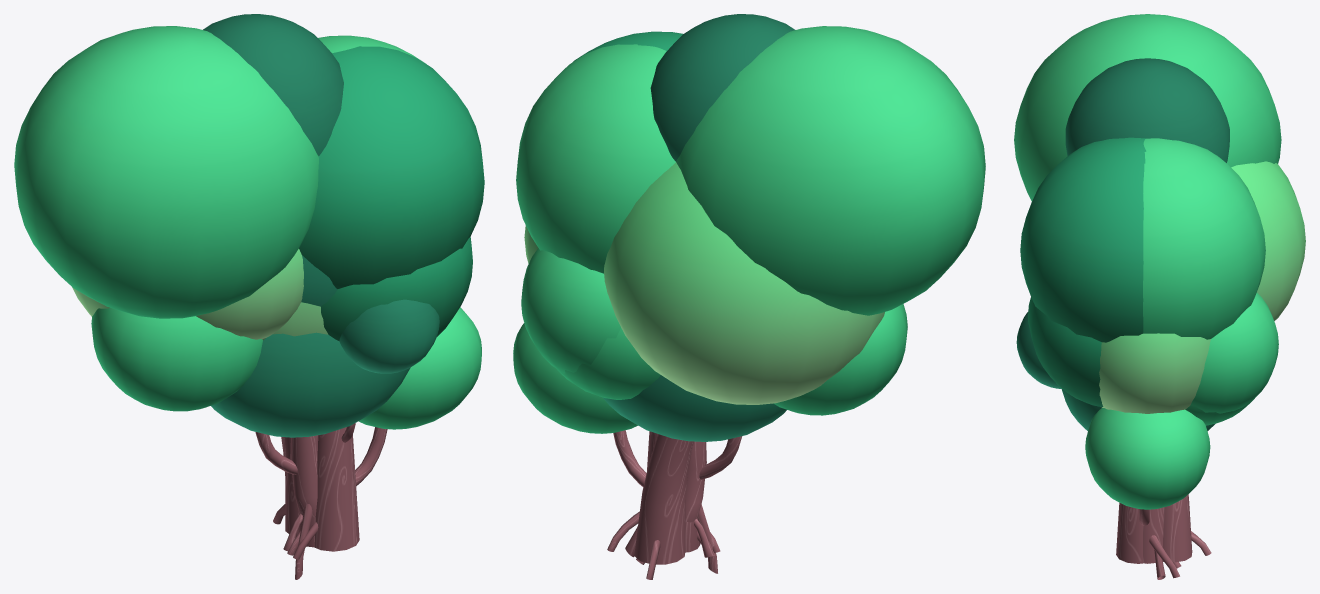
File: tree.glb
3 views of the same model, side by side, from view 1: azimuth 30°, elevation 25°; view 2: azimuth 150°, elevation 25°; view 3: azimuth 270°, elevation 25° (orthographic). The views are drawn at different scales.
Visible parts, largest first — view 1: Tree_02_Forest_mat_01_0, Tree_06_Forest_mat_01_0, Tree_07_Forest_mat_01_0, Tree_01_Forest_mat_01_0, Tree_03_Forest_mat_01_0, Tree_04_Forest_mat_01_0, Tree_05_Forest_mat_01_0; view 2: Tree_02_Forest_mat_01_0, Tree_03_Forest_mat_01_0, Tree_01_Forest_mat_01_0, Tree_07_Forest_mat_01_0, Tree_06_Forest_mat_01_0, Tree_04_Forest_mat_01_0, Tree_05_Forest_mat_01_0; view 3: Tree_01_Forest_mat_01_0, Tree_06_Forest_mat_01_0, Tree_02_Forest_mat_01_0, Tree_03_Forest_mat_01_0, Tree_07_Forest_mat_01_0, Tree_05_Forest_mat_01_0.
Boxes of the visible parts, x1,y1,x2,y2 form: Tree_02_Forest_mat_01_0: [14, 26, 337, 536]; Tree_06_Forest_mat_01_0: [196, 46, 484, 559]; Tree_07_Forest_mat_01_0: [211, 307, 481, 485]; Tree_01_Forest_mat_01_0: [203, 14, 425, 553]; Tree_03_Forest_mat_01_0: [72, 237, 472, 555]; Tree_04_Forest_mat_01_0: [255, 432, 317, 579]; Tree_05_Forest_mat_01_0: [273, 302, 328, 551]; Tree_02_Forest_mat_01_0: [634, 26, 985, 579]; Tree_03_Forest_mat_01_0: [557, 162, 884, 542]; Tree_01_Forest_mat_01_0: [516, 14, 795, 556]; Tree_07_Forest_mat_01_0: [513, 323, 786, 486]; Tree_06_Forest_mat_01_0: [521, 31, 720, 552]; Tree_04_Forest_mat_01_0: [636, 436, 742, 573]; Tree_05_Forest_mat_01_0: [524, 225, 713, 557]; Tree_01_Forest_mat_01_0: [1065, 58, 1265, 576]; Tree_06_Forest_mat_01_0: [1016, 137, 1278, 563]; Tree_02_Forest_mat_01_0: [1014, 14, 1281, 562]; Tree_03_Forest_mat_01_0: [1028, 161, 1305, 578]; Tree_07_Forest_mat_01_0: [1061, 389, 1215, 525]; Tree_05_Forest_mat_01_0: [1099, 333, 1210, 579].
Bounding box in the file's own units: 31.83 × 38.81 × 21.22.
Materials: 1 (1 with a texture image).
